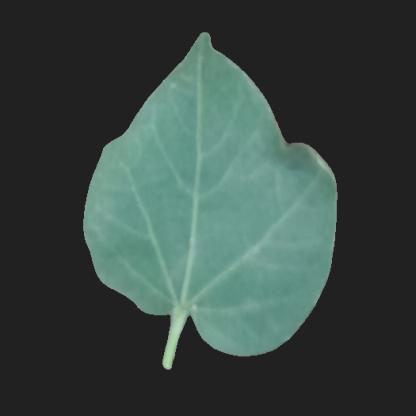healthy: (140, 106, 260, 296), (259, 174, 330, 265), (95, 160, 137, 240)
